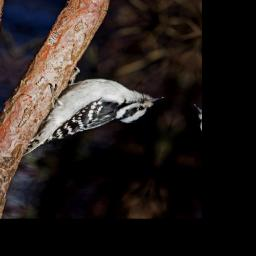Woodpecker: (22, 59, 170, 183)
